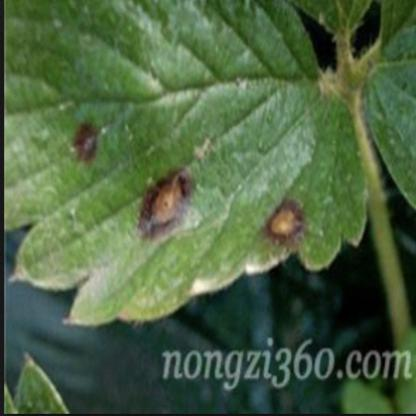Strawberry_Leaf_Spot: (3, 0, 368, 328)
